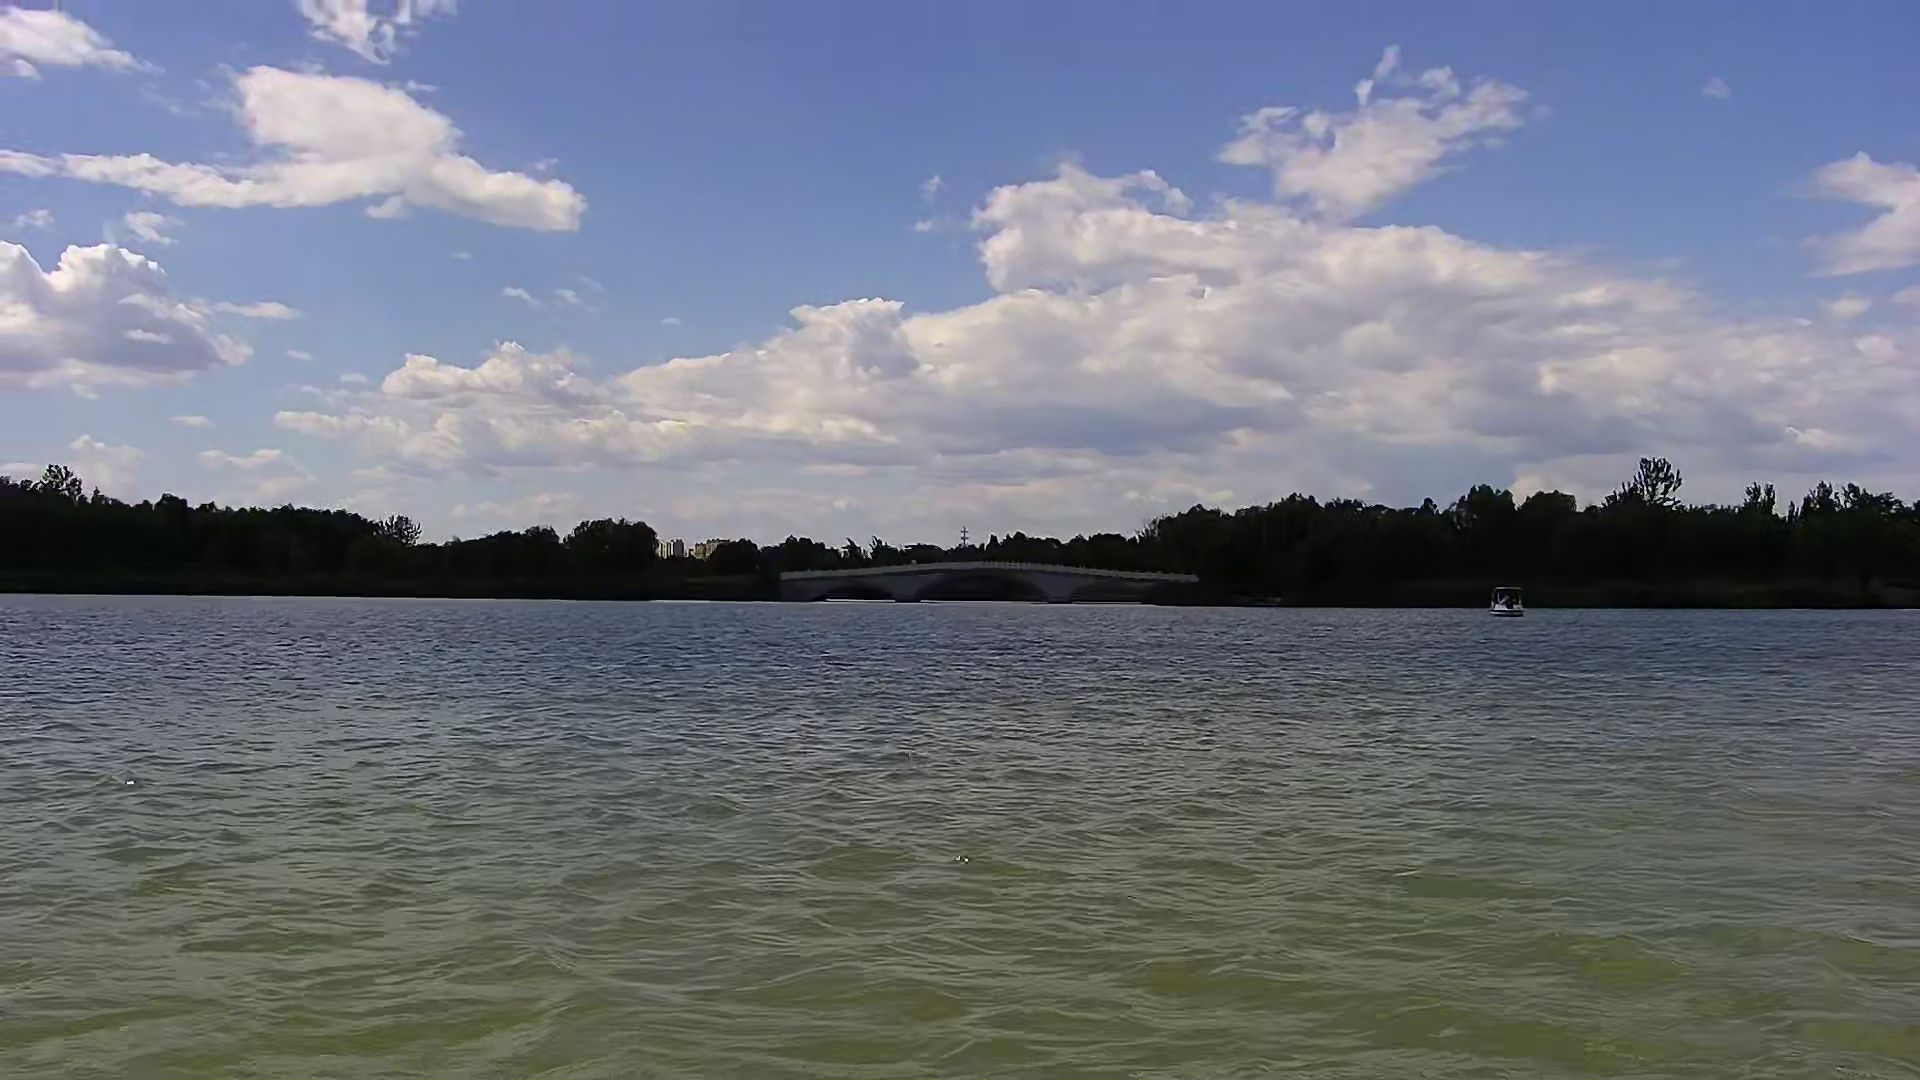boat: (1484, 574, 1535, 622)
bridge: (779, 546, 1215, 608)
